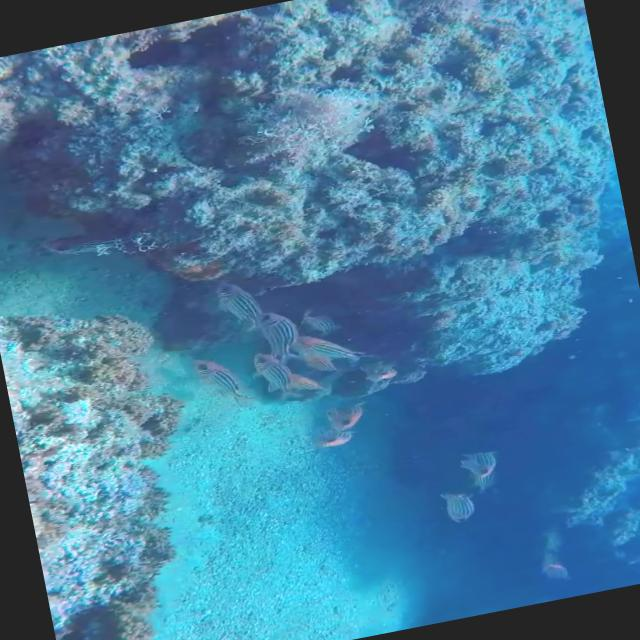Asker Baligi: (193, 266, 287, 342), (180, 340, 256, 429), (242, 341, 311, 408), (250, 308, 308, 362), (438, 482, 484, 536), (308, 398, 374, 435)
